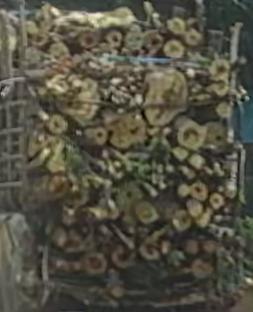large: (144, 69, 186, 124), (108, 117, 145, 148), (204, 122, 225, 153)
medium: (177, 123, 205, 150), (120, 185, 141, 212), (136, 203, 158, 223), (82, 254, 105, 273), (112, 248, 133, 267), (210, 61, 228, 81), (47, 115, 66, 133), (192, 261, 211, 279), (172, 211, 189, 231), (163, 41, 183, 58), (190, 181, 206, 201), (78, 33, 96, 49), (124, 32, 140, 50), (104, 30, 120, 47), (47, 156, 63, 173), (166, 19, 184, 34), (139, 246, 157, 261), (183, 31, 200, 46), (186, 201, 201, 216), (51, 44, 67, 58), (93, 127, 105, 145), (215, 102, 229, 117), (172, 148, 188, 161), (53, 229, 65, 246), (189, 156, 203, 170), (210, 194, 223, 209), (176, 185, 188, 197), (186, 240, 196, 253), (112, 287, 123, 297), (204, 242, 213, 253), (186, 169, 193, 179), (162, 242, 168, 253)
small: (181, 167, 188, 174), (150, 191, 157, 197), (166, 165, 173, 171), (214, 215, 221, 221), (177, 253, 184, 259), (157, 162, 163, 168), (159, 183, 165, 189), (96, 161, 102, 167), (42, 148, 48, 154), (144, 165, 149, 171), (159, 175, 165, 180), (116, 173, 122, 178), (151, 173, 156, 178), (158, 179, 163, 184), (117, 108, 122, 113), (120, 87, 125, 92), (68, 210, 73, 215), (128, 228, 133, 233), (75, 131, 81, 135), (156, 169, 161, 173), (151, 179, 155, 184), (130, 86, 134, 91), (113, 100, 118, 104), (217, 187, 221, 192), (126, 167, 131, 171), (110, 96, 113, 102), (174, 262, 178, 266), (114, 163, 119, 166), (82, 227, 85, 232), (101, 167, 106, 170), (168, 181, 171, 186), (120, 99, 123, 103), (214, 165, 217, 169)
